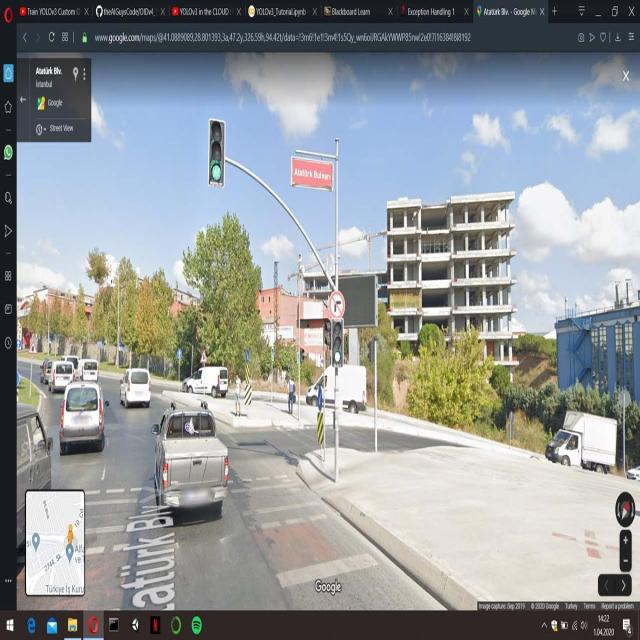sagadonulmez: (330, 291, 344, 317)
yesil: (210, 119, 224, 184), (331, 318, 343, 365)
